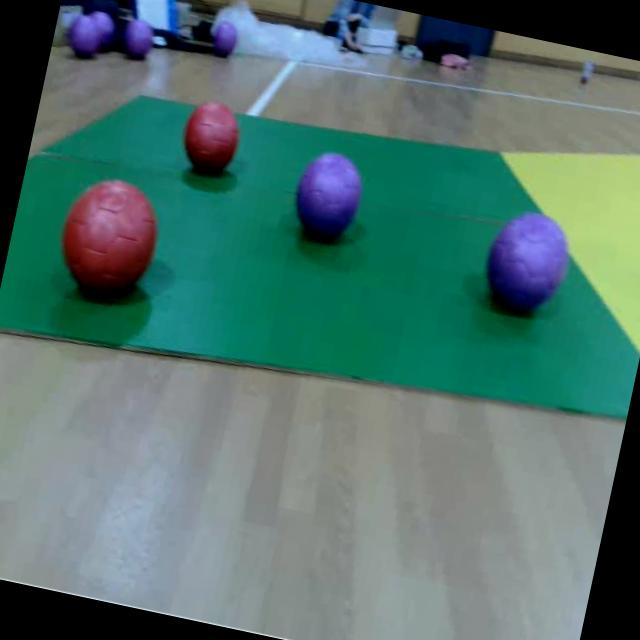purple_ball: (478, 208, 576, 318), (290, 147, 368, 241), (65, 11, 107, 61), (119, 18, 153, 59), (211, 22, 238, 55)
red_ball: (52, 172, 166, 308), (178, 100, 244, 180)
